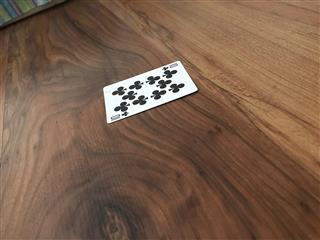TenOfClubs: (101, 59, 199, 125)
